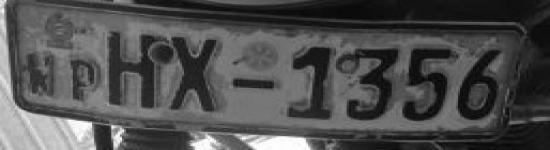-: (229, 74, 279, 94)
1: (281, 39, 338, 124)
3: (342, 44, 403, 124)
5: (405, 46, 454, 122)
6: (454, 46, 503, 124)
H: (106, 26, 166, 110)
P: (68, 58, 101, 105)
W: (22, 49, 63, 102)
X: (168, 32, 224, 115)
